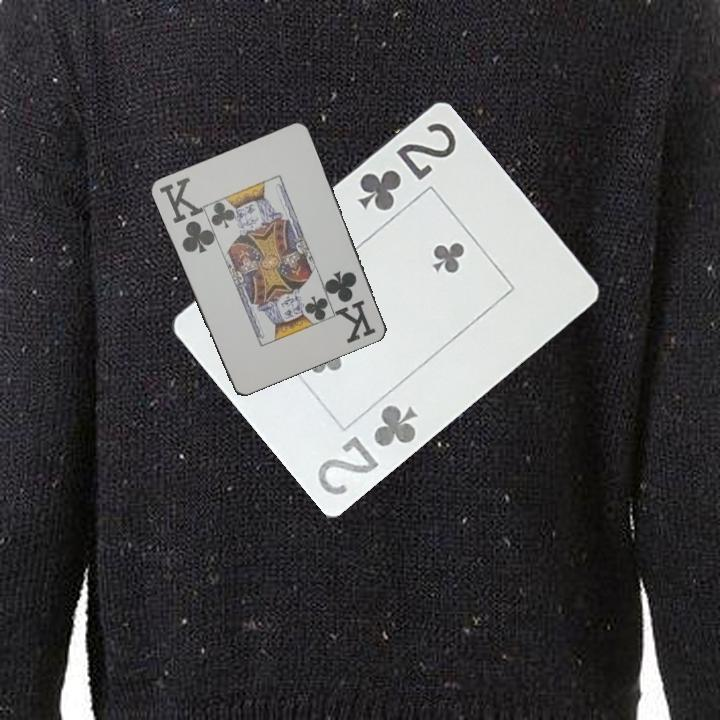2c: (313, 400, 422, 498), (353, 118, 460, 214)
Kc: (155, 173, 216, 257), (324, 267, 379, 344)
